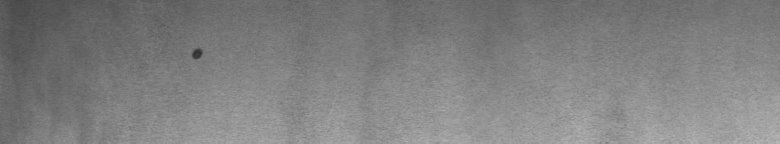fi: (187, 40, 208, 68)
